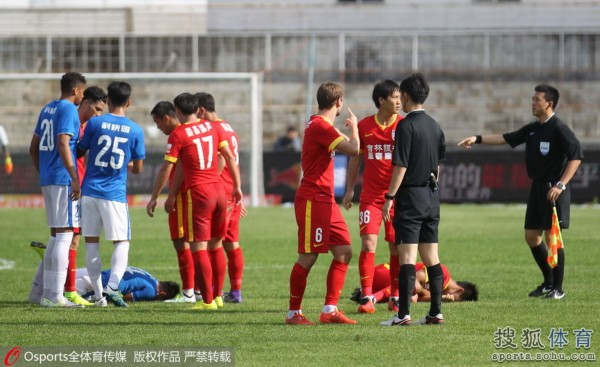10+: (1, 65, 596, 319)
down: (24, 231, 186, 312), (349, 258, 487, 310)
